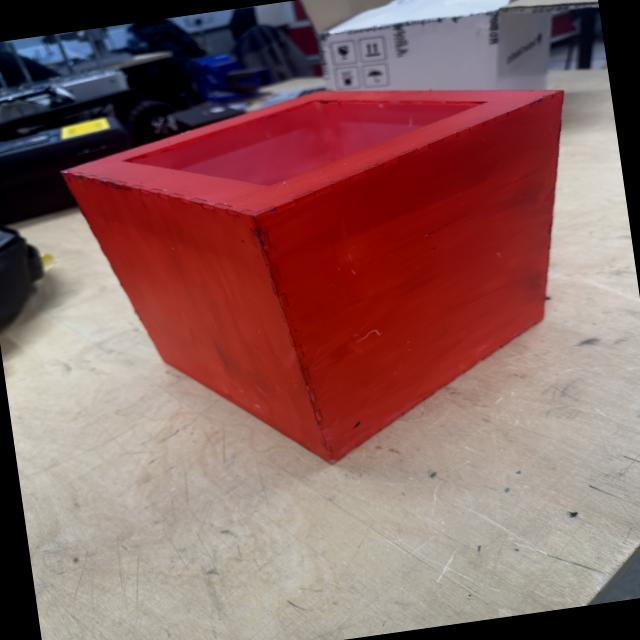red_bin: (56, 57, 612, 497)
